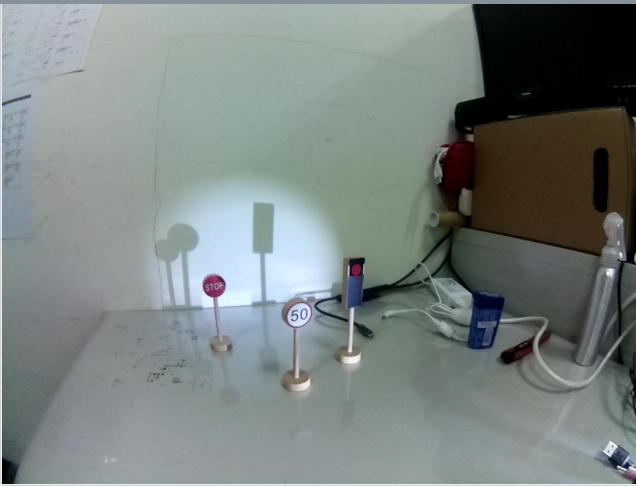Red: (340, 254, 365, 310)
Speed50: (281, 295, 313, 330)
Stop: (200, 271, 228, 299)
